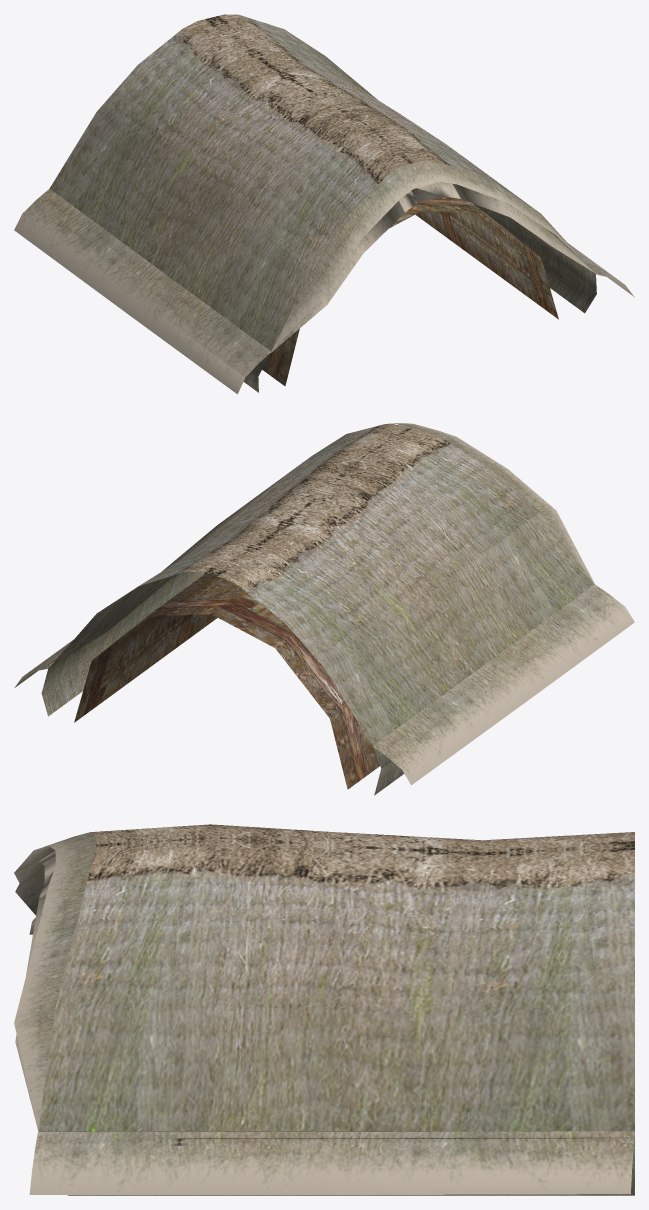
File: Roof_1.fbx
3 views of the same model, one above another, from view 1: azimuth 30°, elevation 25°; view 2: azimuth 150°, elevation 25°; view 3: azimuth 270°, elevation 25° (orthographic). The views are drawn at different scales.
Visible parts, largest first — view 1: Mesh; view 2: Mesh; view 3: Mesh.
Boxes of the visible parts, x1,y1,x2,y2 form: Mesh: [14, 14, 634, 394]; Mesh: [14, 423, 634, 795]; Mesh: [14, 824, 634, 1195].
Bounding box in the file's own units: 2010 × 905 × 2024.
